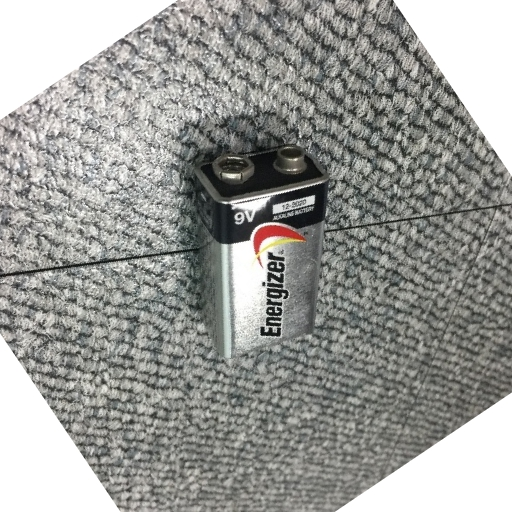Battery_3: (169, 136, 356, 373)
